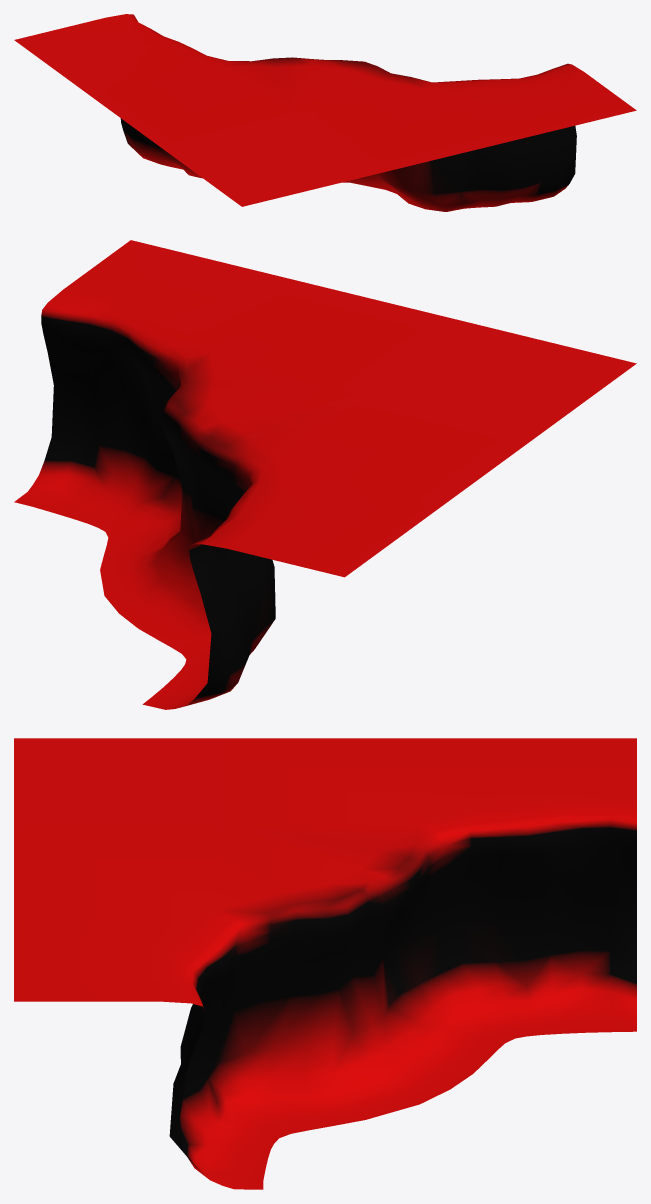
The model's file is GroundCliff04A 1M Background.fbx.
3 renders of one model, top to bottom at view 1: azimuth 30°, elevation 25°; view 2: azimuth 150°, elevation 25°; view 3: azimuth 270°, elevation 25°, orthographic. The views are drawn at different scales.
Parts seen in each view (by area): view 1: GroundCliff04A 1M Background; view 2: GroundCliff04A 1M Background; view 3: GroundCliff04A 1M Background.
Boxes of the visible parts, x1=… form: GroundCliff04A 1M Background: x1=14, y1=14, x2=636, y2=211; GroundCliff04A 1M Background: x1=14, y1=240, x2=636, y2=709; GroundCliff04A 1M Background: x1=14, y1=738, x2=636, y2=1189.
Bounding box in the file's own units: 3 × 1 × 3.
